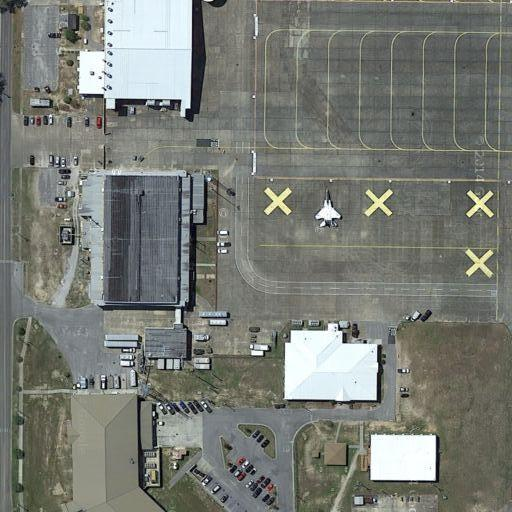F-15: (314, 187, 344, 234)
